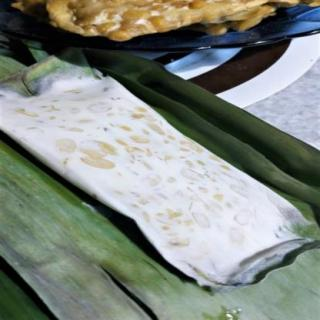Tempe: (2, 70, 320, 294)
